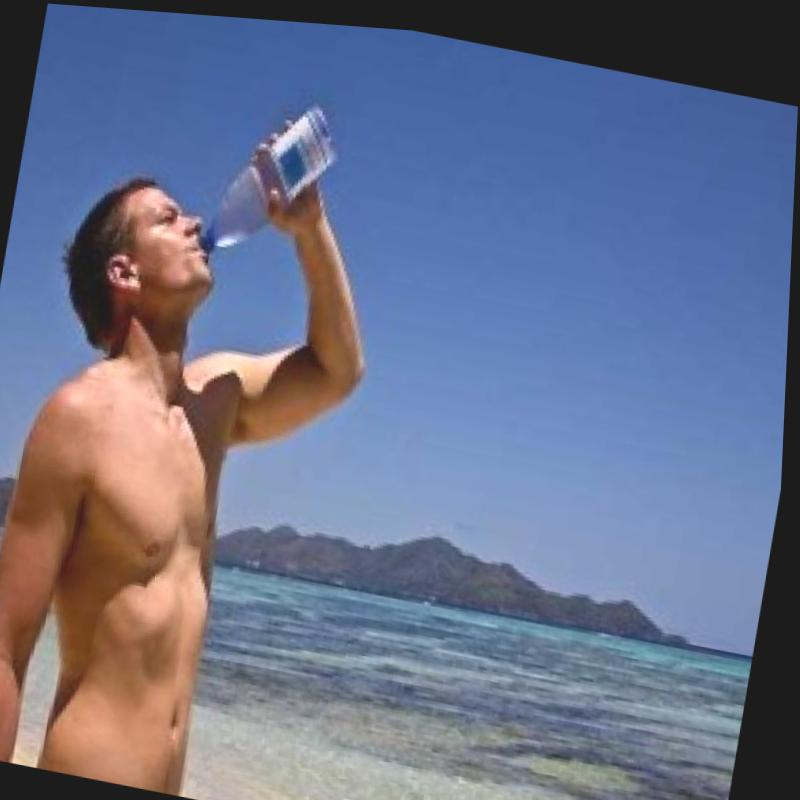botella: (199, 84, 344, 274)
